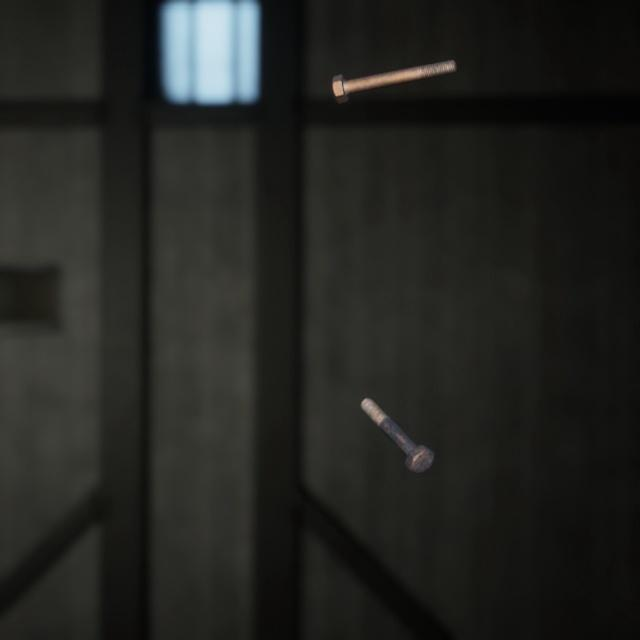bolt: (356, 374, 439, 458), (327, 45, 461, 97)
